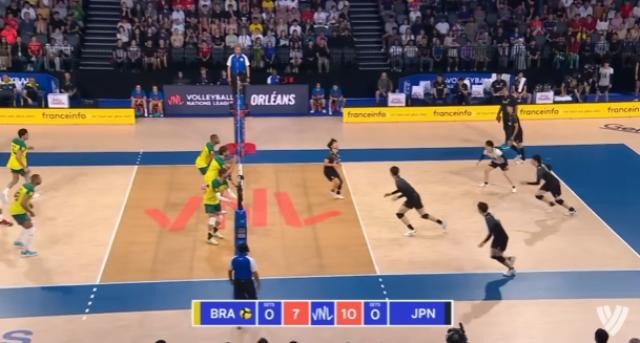Levantador: (200, 166, 244, 252), (309, 132, 357, 200)
Libero: (468, 132, 522, 196)
bola: (397, 0, 419, 10)
